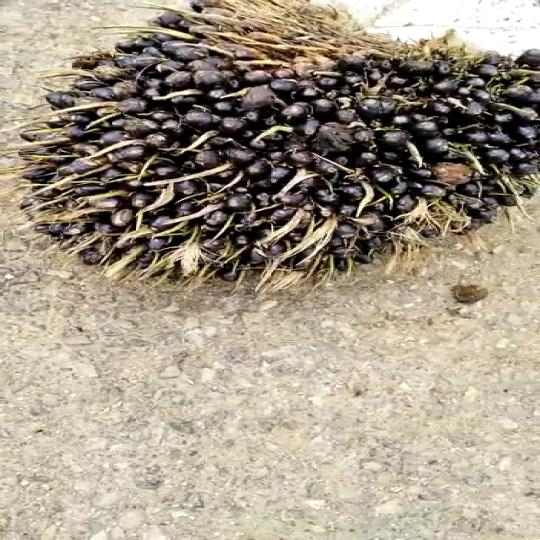mentah: (19, 7, 540, 303)
